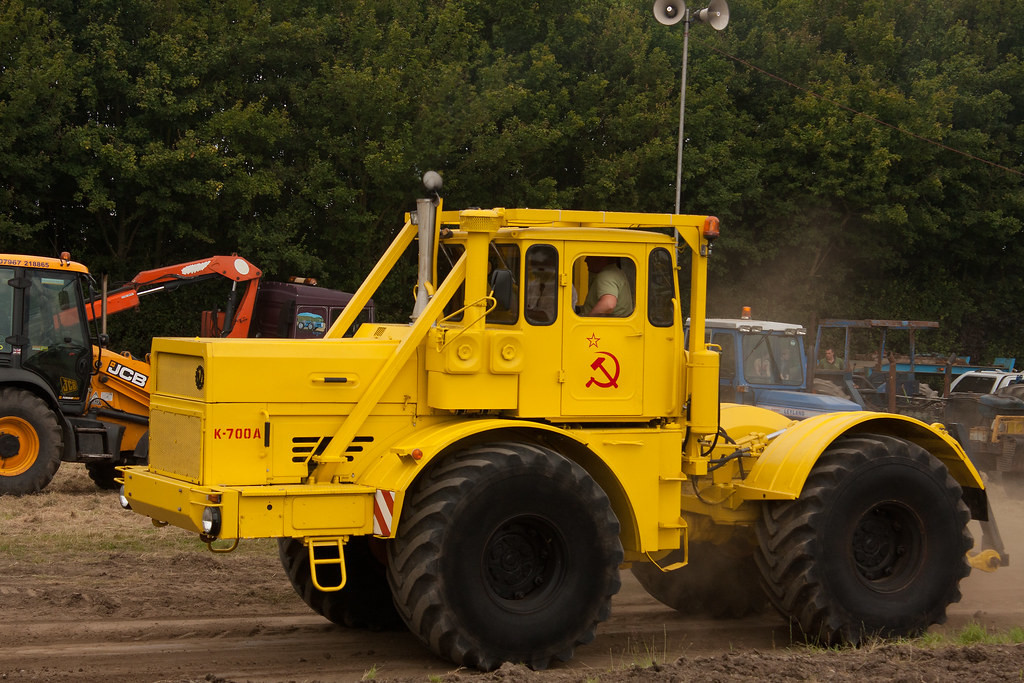tractor: (112, 171, 989, 669)
